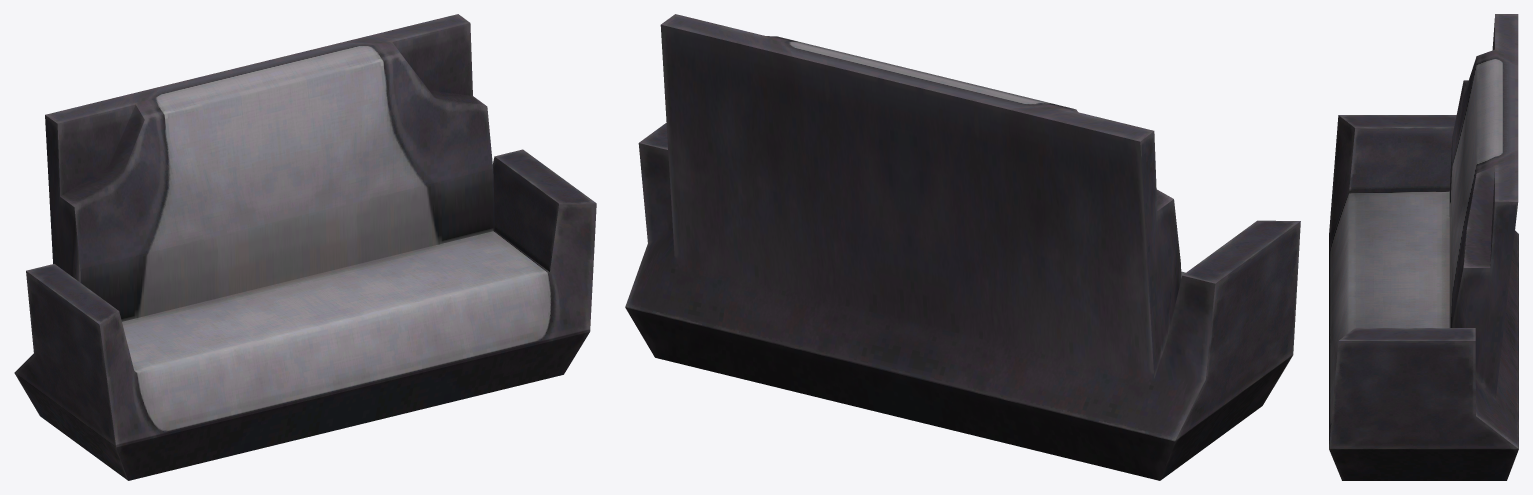
Rendered from frn_all_couch_sm_s1_l1.fbx.
3 renders of one model, left to right at view 1: azimuth 30°, elevation 25°; view 2: azimuth 150°, elevation 25°; view 3: azimuth 270°, elevation 25°, orthographic. The views are drawn at different scales.
Parts seen in each view (by area): view 1: mesh_node; view 2: mesh_node; view 3: mesh_node.
Boxes of the visible parts, x1,y1,x2,y2 form: mesh_node: (14, 14, 596, 480); mesh_node: (625, 14, 1300, 480); mesh_node: (1329, 14, 1518, 480).
Size of the model in its own units: 1.99 by 1.12 by 0.7054.
